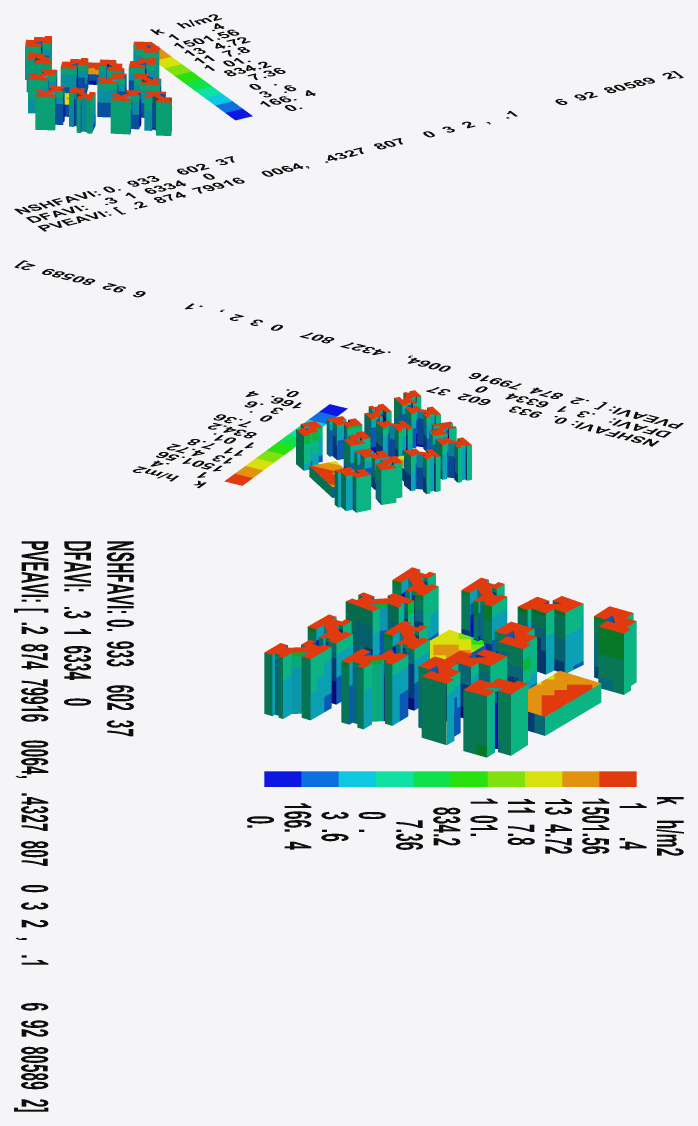
Rendered from punggol_luse101_solar.dae.
The picture shows the model from 3 angles, top to bottom: view 1: azimuth 30°, elevation 25°; view 2: azimuth 150°, elevation 25°; view 3: azimuth 270°, elevation 25°; orthographic projection. The views are drawn at different scales.
Parts seen in each view (by area): view 1: node0 (×5); view 2: node0 (×5); view 3: node0 (×7).
Boxes of the visible parts, box(x1,y1,x2,y2) form: node0 (×5): box(14, 14, 683, 231); node0 (×5): box(14, 260, 683, 512); node0 (×7): box(14, 541, 683, 1111).
Bounding box in the file's own units: 958 × 476 × 48.01.
